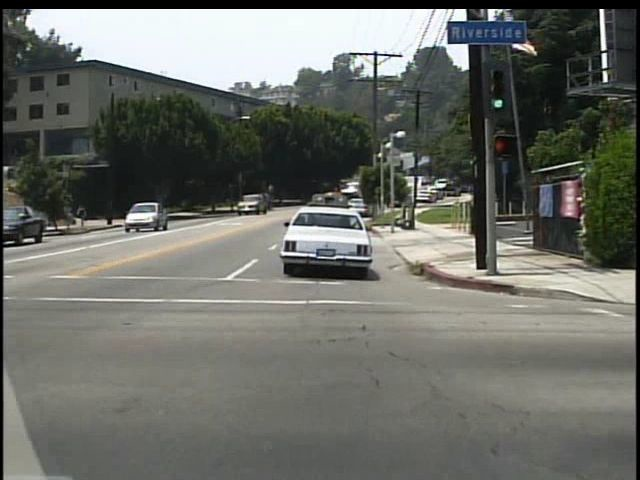person: (77, 203, 91, 228)
